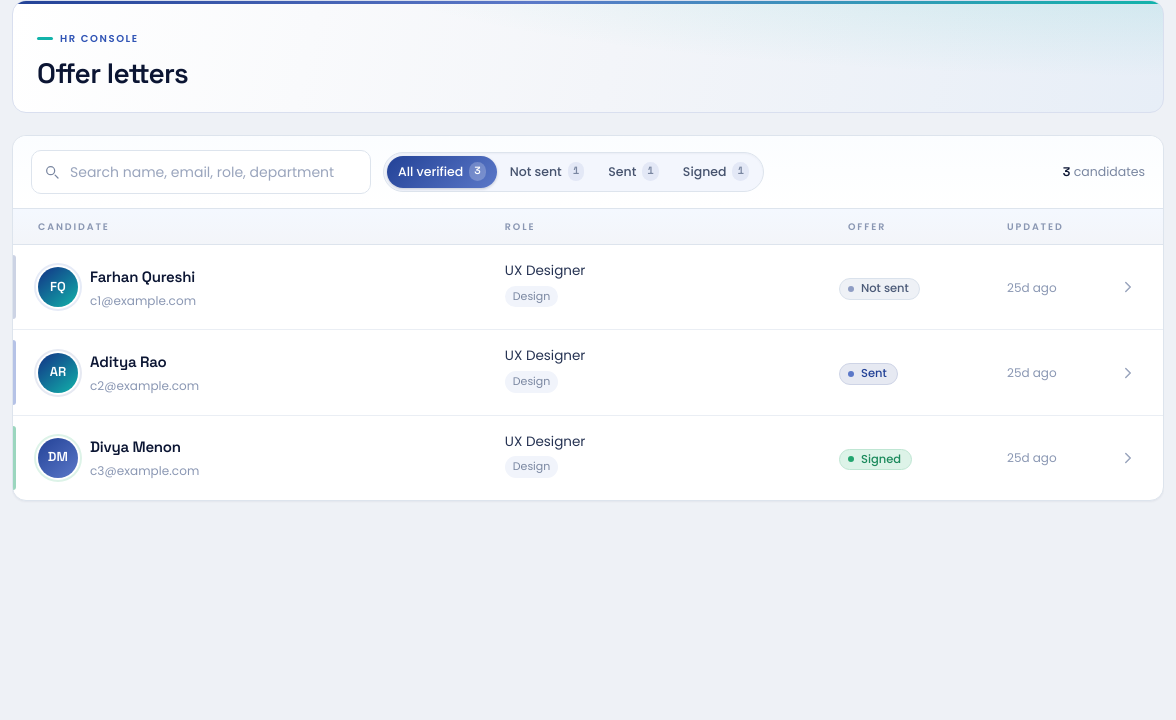
Test case: OffersPage search › narrows the desk to the name typed
Expected: the text "Aditya Rao" is shown, [90, 352, 166, 371]
Type "Farhan" into the field named "Search offers" at (201, 172), box [31, 150, 371, 194]
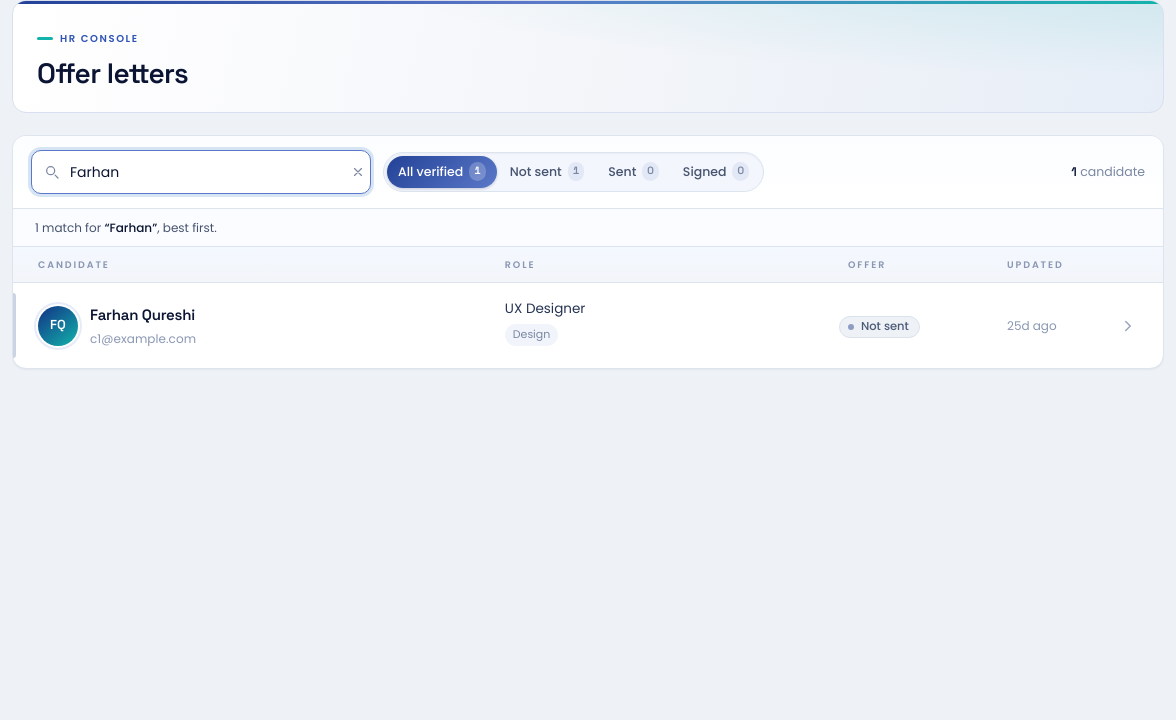
Expected: the text "Farhan Qureshi" is shown, [90, 303, 196, 327]
Expected: the button "Aditya Rao" is gone
